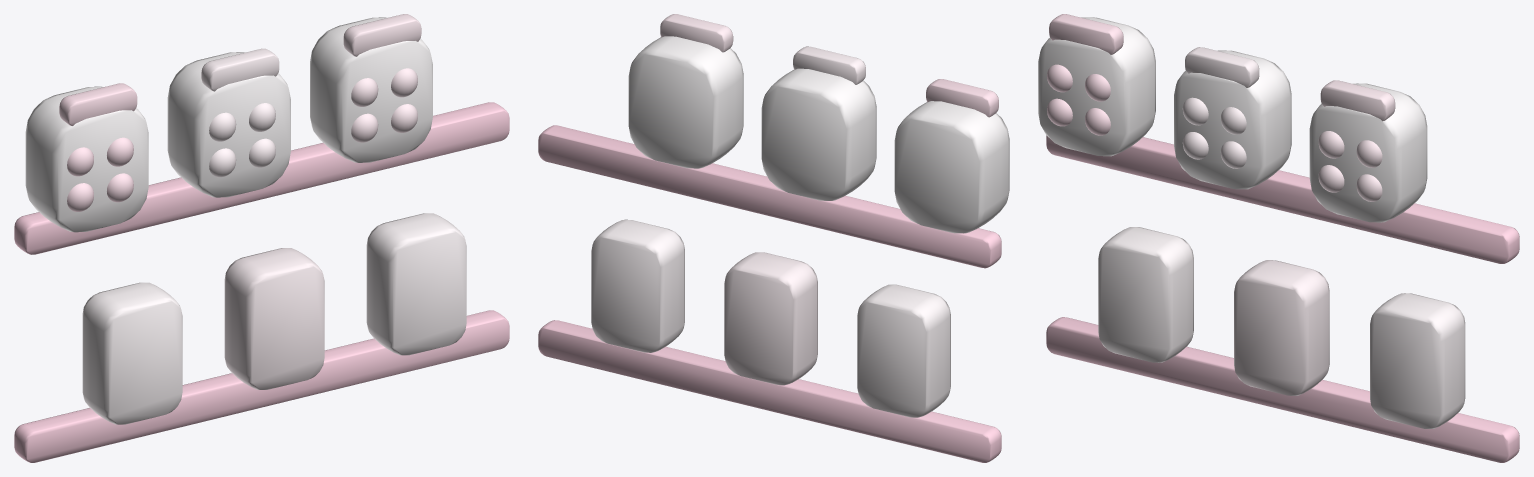
The model's file is decor_3_candy.glb.
3 renders of one model, left to right at view 1: azimuth 30°, elevation 25°; view 2: azimuth 150°, elevation 25°; view 3: azimuth 330°, elevation 25°, orthographic. The views are drawn at different scales.
Parts seen in each view (by area): view 1: decor_3_candy; view 2: decor_3_candy; view 3: decor_3_candy.
Part boxes in pixels (x1,y1,x2,y2): decor_3_candy: (14,14,509,462); decor_3_candy: (538,14,1009,462); decor_3_candy: (1038,14,1519,462).
Bounding box in the file's own units: 17.08 × 12.47 × 2.26.
